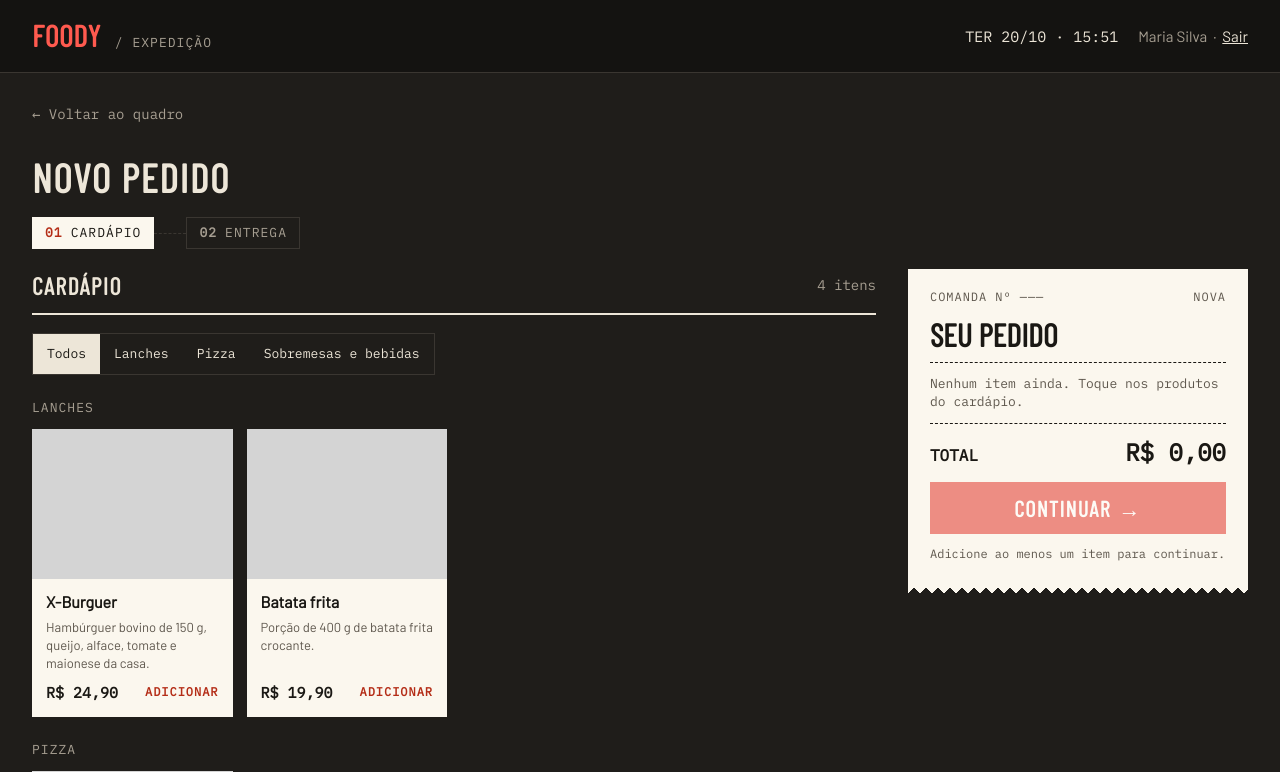
NewOrderPage › prefills the customer name and the default address
Click the button with aria-label "Adicionar X-Burguer". click: x=132, y=573
box: [32,429,232,717]
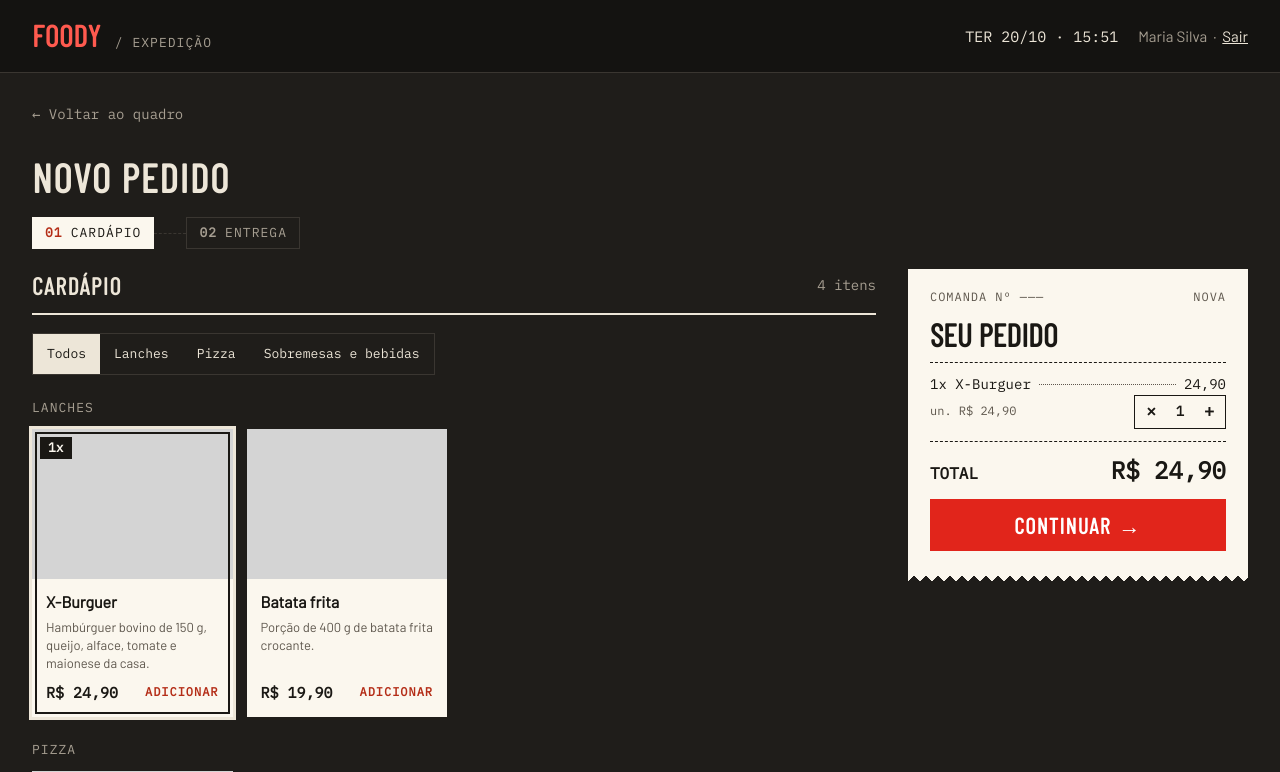
Click the button with aria-label "Adicionar X-Burguer". click: x=132, y=573
box: [32,429,232,717]
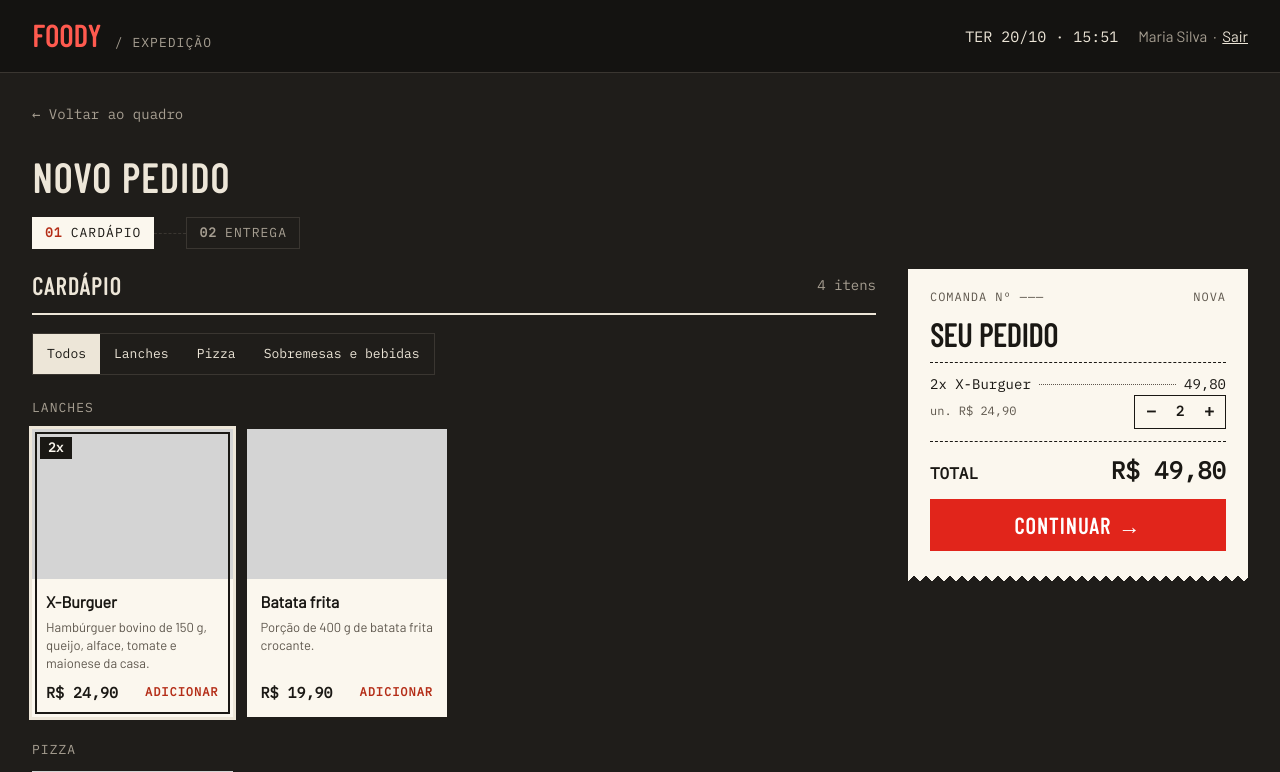
Click the button "Continuar →". click: x=1078, y=525
box: [930,499,1226,551]
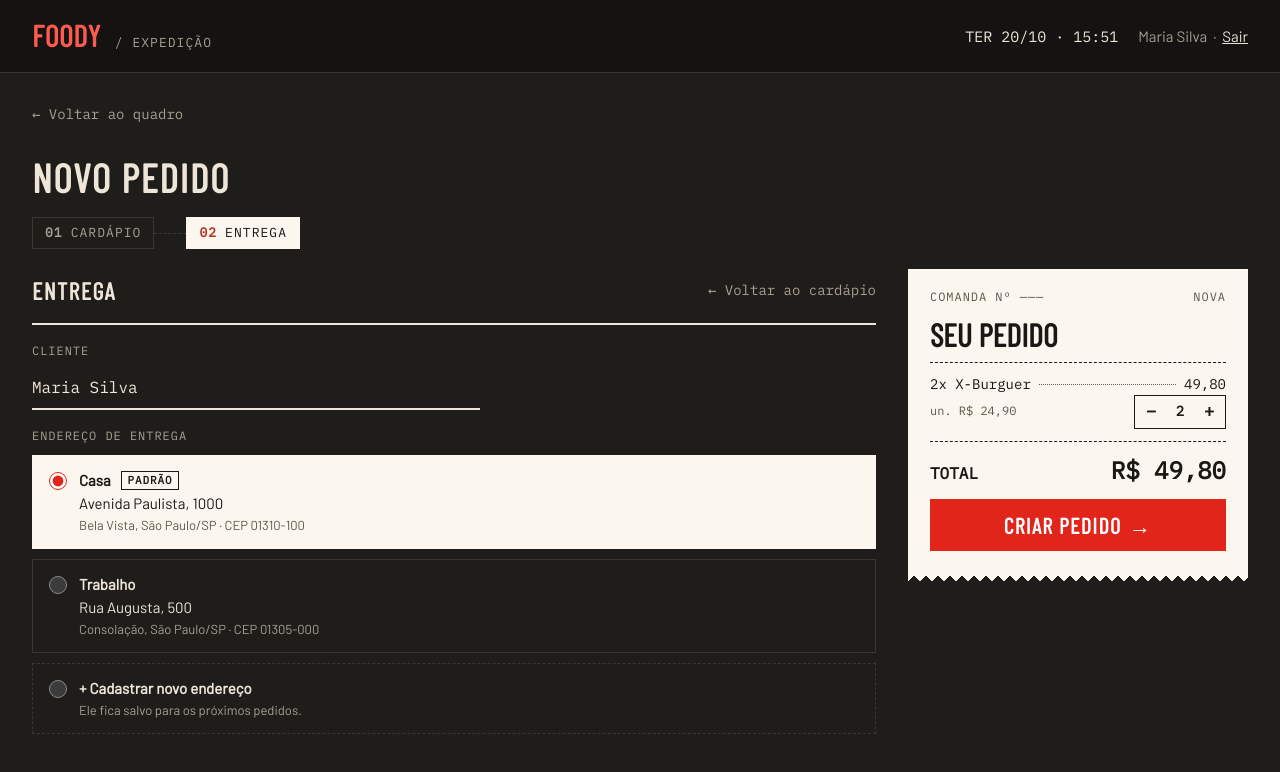
Check: the heading "Entrega" is shown, box [32,274,116,308]
Check: the radio button labelled "Casa" is checked, box [49,472,67,490]
Check: the label "Casa" reads "Casa Padrão Avenida Paulista, 1000 Bela Vista, São Paulo/SP · CEP 01310-100", box [32,455,876,549]
